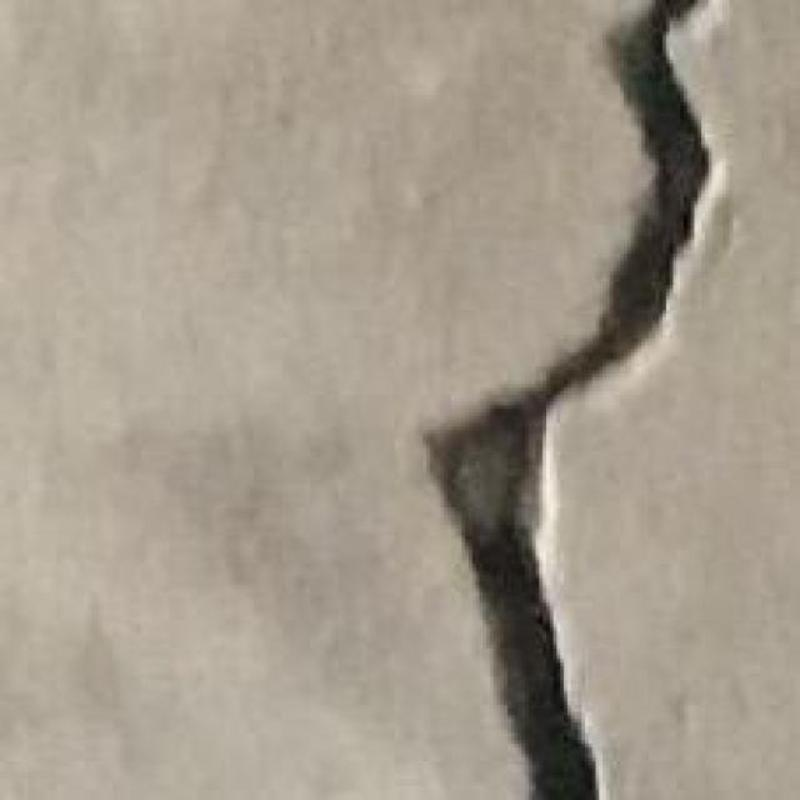crack: (424, 0, 708, 799)
